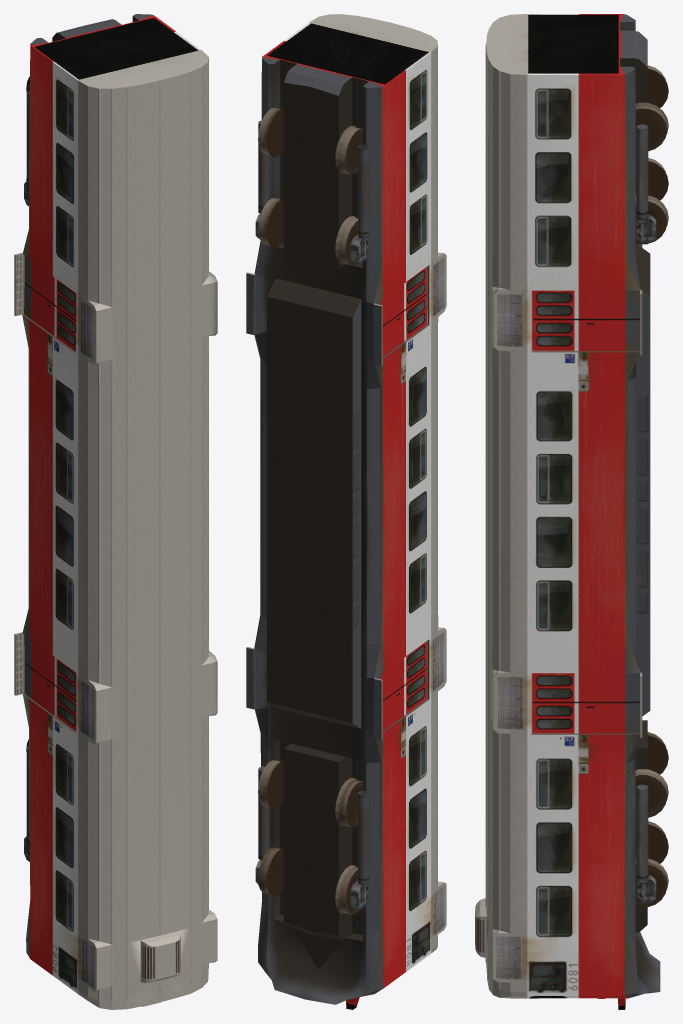
Rendered from sm2-lowpoly.obj.
The picture shows the model from 3 angles, left to right: view 1: azimuth 30°, elevation 25°; view 2: azimuth 150°, elevation 25°; view 3: azimuth 270°, elevation 25°; orthographic projection. The views are drawn at different scales.
Parts seen in each view (by area): view 1: SM2; view 2: SM2; view 3: SM2.
Boxes of the visible parts, x1=… form: SM2: x1=14, y1=14, x2=217, y2=1009; SM2: x1=246, y1=14, x2=446, y2=1009; SM2: x1=475, y1=14, x2=668, y2=1009.
Bounding box in the file's own units: 9.6 × 63.12 × 11.66.
Materials: 1 (1 with a texture image).
